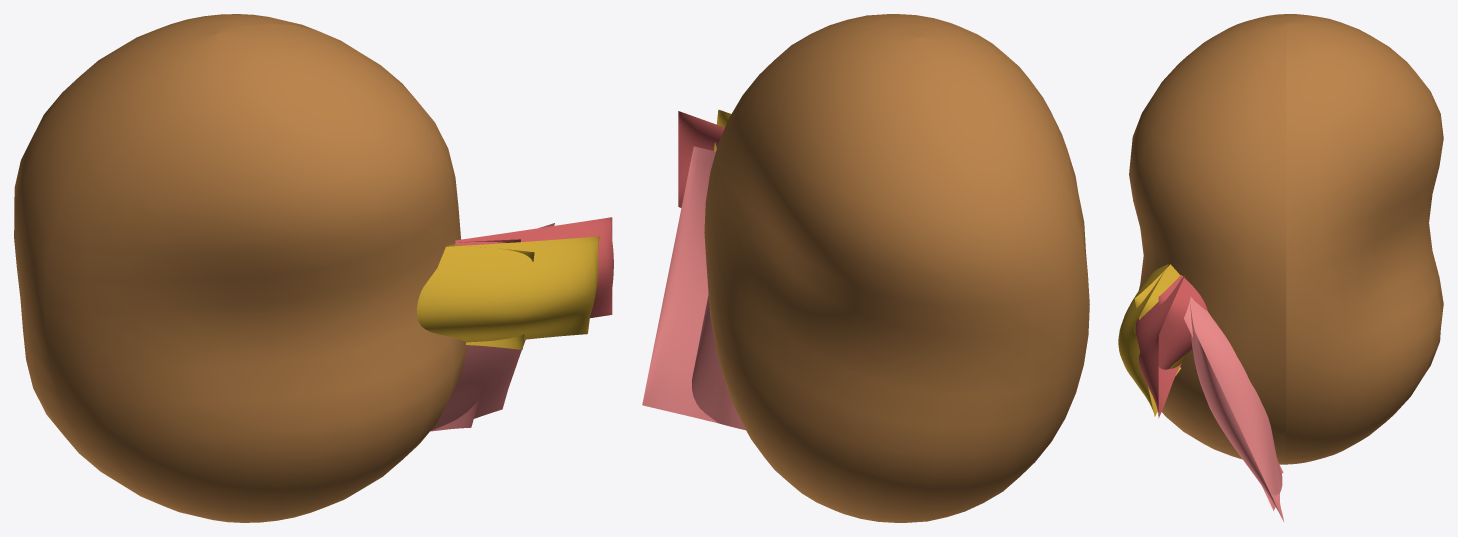
Rendered from digestive.glb.
The picture shows the model from 3 angles, left to right: view 1: azimuth 30°, elevation 25°; view 2: azimuth 150°, elevation 25°; view 3: azimuth 270°, elevation 25°; orthographic projection. The views are drawn at different scales.
Visible parts, largest first — view 1: Mesh_Camelid_C1, Mesh_Camelid_C2, Mesh_Camelid_C3, Mesh_Camelid_Hepar; view 2: Mesh_Camelid_C1, Mesh_Camelid_C3, Mesh_Camelid_Hepar; view 3: Mesh_Camelid_C1, Mesh_Camelid_C3, Mesh_Camelid_Hepar, Mesh_Camelid_C2.
Part boxes in pixels (x1,y1,x2,y2): Mesh_Camelid_C1: (14,14,466,522); Mesh_Camelid_C2: (417,236,599,349); Mesh_Camelid_C3: (430,223,554,431); Mesh_Camelid_Hepar: (454,217,613,318); Mesh_Camelid_C1: (704,14,1089,522); Mesh_Camelid_C3: (642,146,745,430); Mesh_Camelid_Hepar: (678,111,724,207); Mesh_Camelid_C1: (1129,14,1443,464); Mesh_Camelid_C3: (1184,296,1283,521); Mesh_Camelid_Hepar: (1135,275,1207,418); Mesh_Camelid_C2: (1118,264,1188,416).
Bounding box in the file's own units: 0.6655 × 0.6225 × 0.4436.
